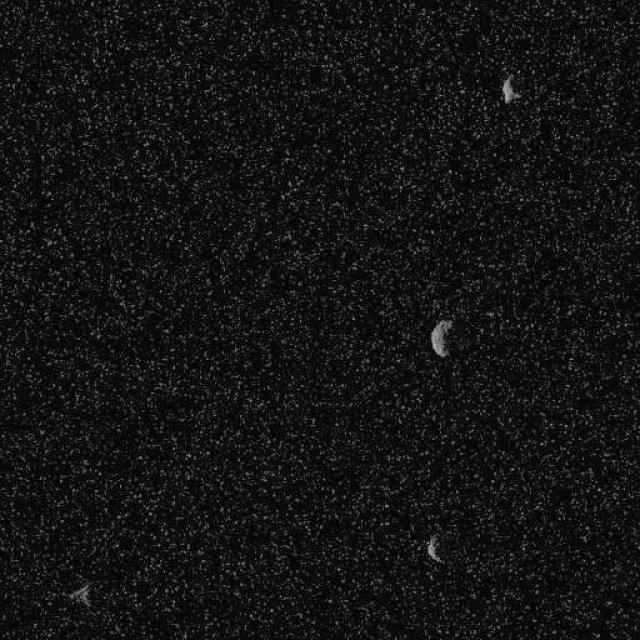D2: (428, 318, 454, 358), (500, 74, 521, 104), (68, 582, 92, 608), (425, 534, 444, 564)
